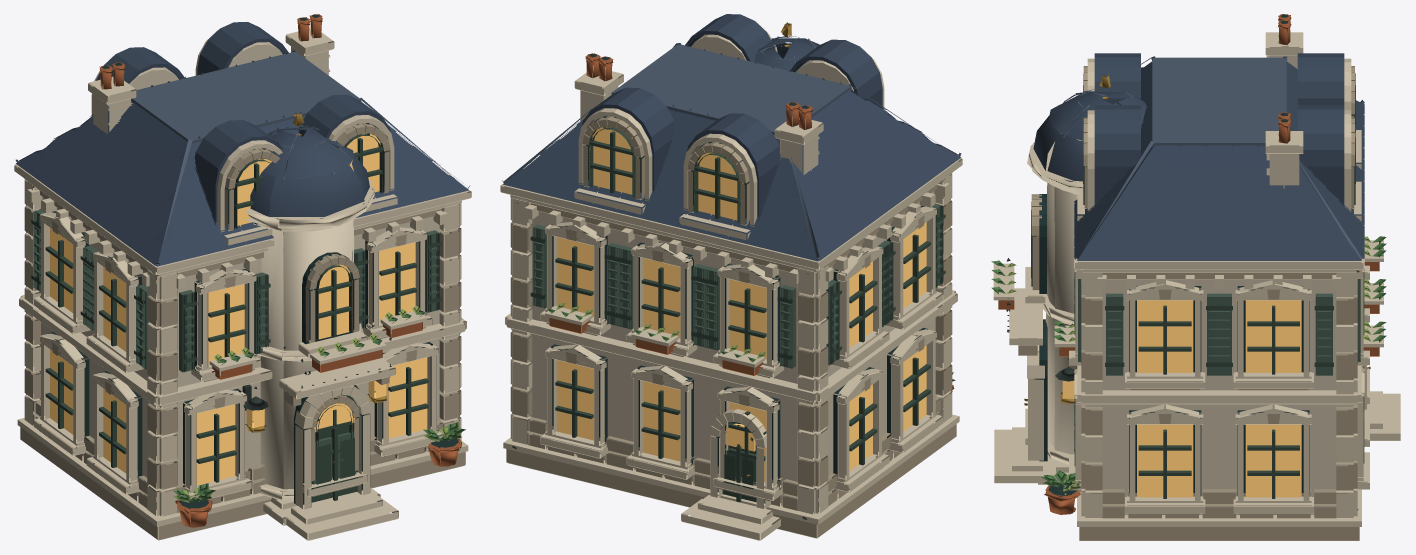
The picture shows the model from 3 angles, left to right: view 1: azimuth 30°, elevation 25°; view 2: azimuth 150°, elevation 25°; view 3: azimuth 270°, elevation 25°; orthographic projection. The views are drawn at different scales.
Visible parts, largest first — view 1: classic_tower_2_geometry; view 2: classic_tower_2_geometry; view 3: classic_tower_2_geometry.
Part boxes in pixels (x1,y1,x2,y2): classic_tower_2_geometry: [14, 14, 471, 540]; classic_tower_2_geometry: [500, 14, 962, 540]; classic_tower_2_geometry: [991, 14, 1400, 540].
Size of the model in its own units: 0.9288 by 1.05 by 0.99.
